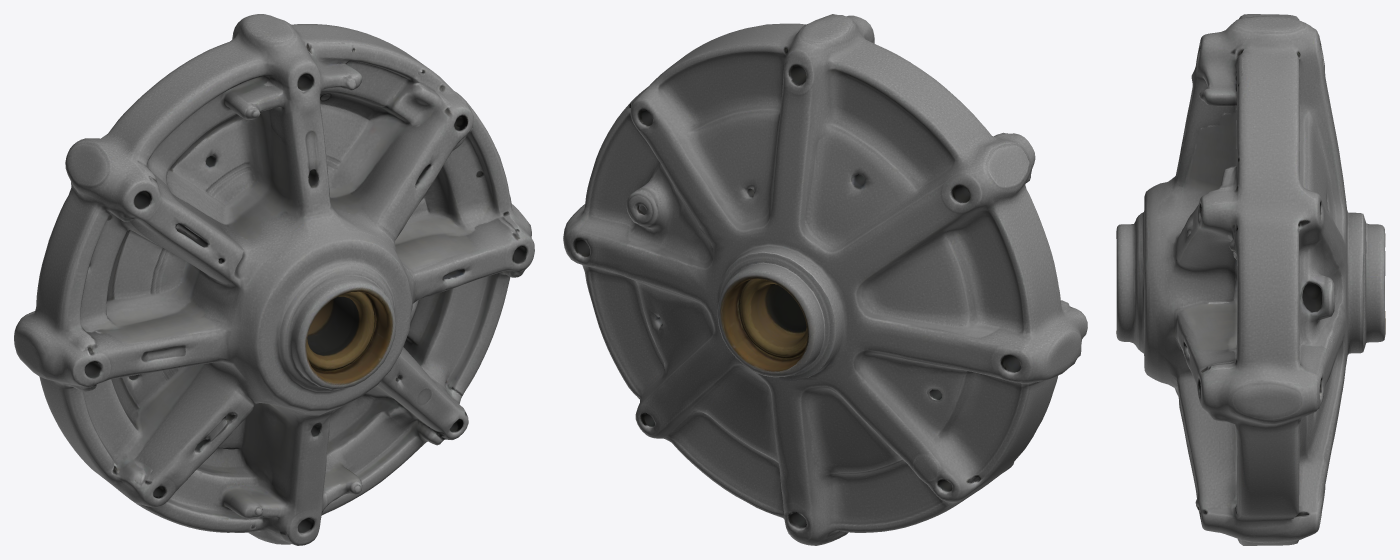
Rendered from bearing housing 3d model.glb.
3 views of the same model, side by side, from view 1: azimuth 30°, elevation 25°; view 2: azimuth 150°, elevation 25°; view 3: azimuth 270°, elevation 25° (orthographic).
Parts seen in each view (by area): view 1: tripo_node_fae0c19b-9fca-47df-94bf-60dbf172ad18; view 2: tripo_node_fae0c19b-9fca-47df-94bf-60dbf172ad18; view 3: tripo_node_fae0c19b-9fca-47df-94bf-60dbf172ad18.
Boxes of the visible parts, <box> form: tripo_node_fae0c19b-9fca-47df-94bf-60dbf172ad18: <box>14,14,534,545</box>; tripo_node_fae0c19b-9fca-47df-94bf-60dbf172ad18: <box>563,14,1087,545</box>; tripo_node_fae0c19b-9fca-47df-94bf-60dbf172ad18: <box>1116,14,1385,545</box>.
Size of the model in its own units: 0.9773 by 0.9716 by 0.464.
Materials: 1 (1 with a texture image).
